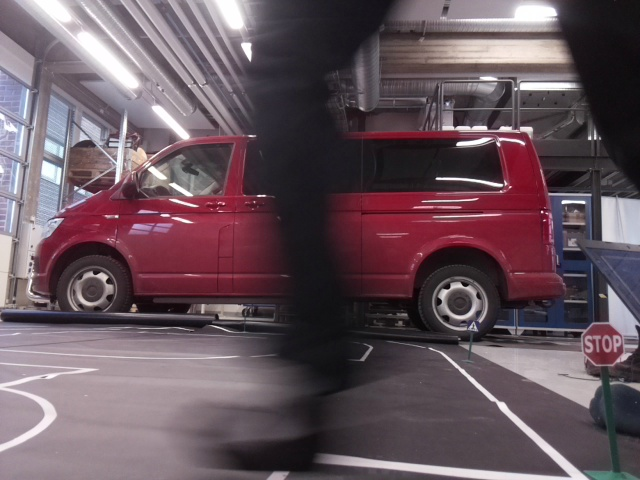Crosswalk: (468, 321, 477, 332)
Stop: (579, 324, 624, 365)
